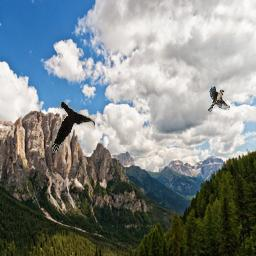Crow: (53, 103, 96, 154)
Sparrow: (208, 86, 230, 113)
